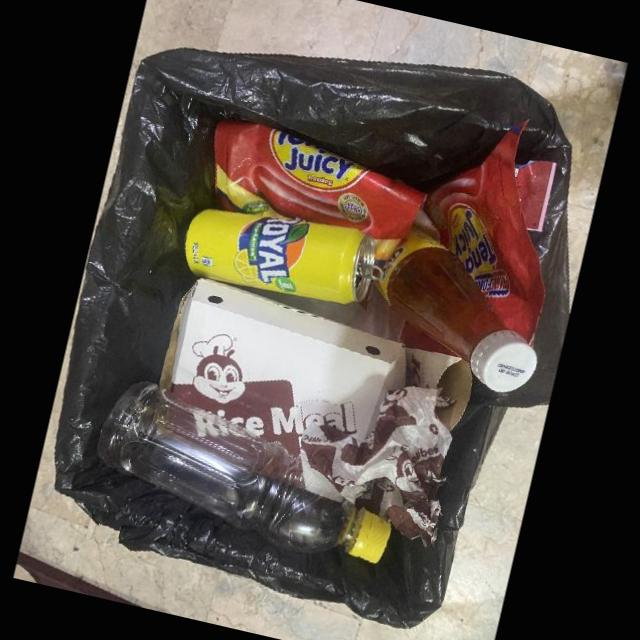bao_bi_thuc_pham: (412, 119, 555, 346), (210, 117, 425, 260)
carton: (402, 347, 471, 428)
chai_nhua_pet: (94, 379, 389, 565)
chai_thuy_tinh: (375, 226, 536, 390)
giay: (300, 387, 450, 549)
nhom: (186, 207, 381, 305)
